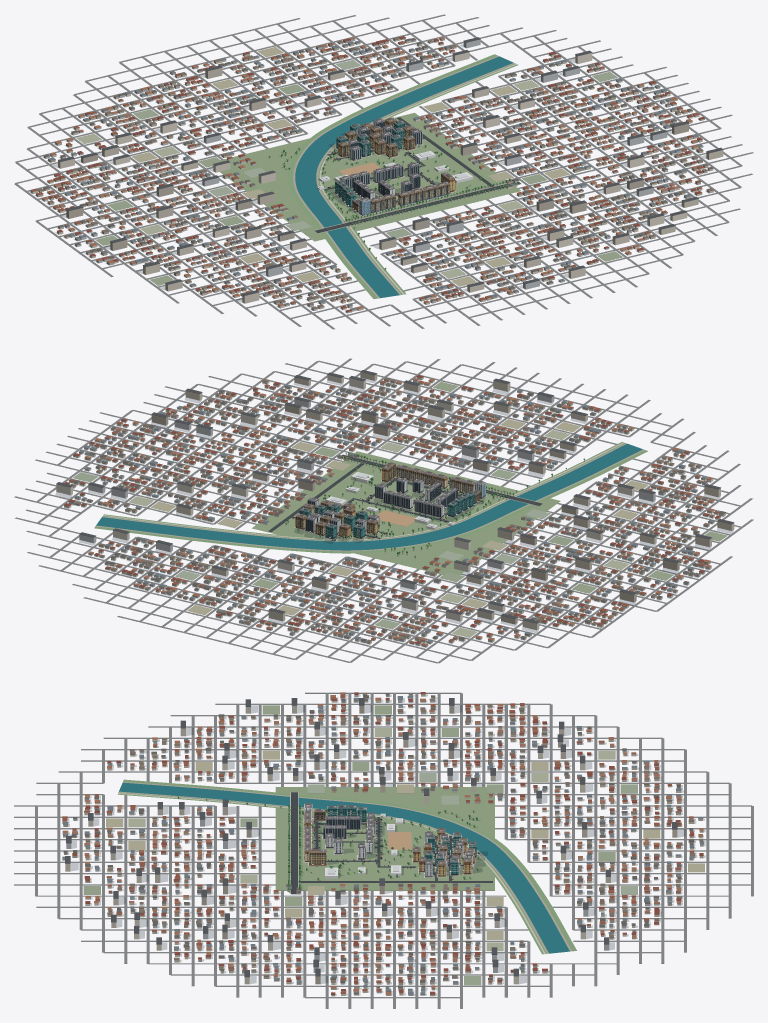
Rendered from placeholder.glb.
The picture shows the model from 3 angles, top to bottom: view 1: azimuth 30°, elevation 25°; view 2: azimuth 150°, elevation 25°; view 3: azimuth 270°, elevation 25°; orthographic projection. The views are drawn at different scales.
Visible parts, largest first — view 1: atrof_uylar, atrof_kochalar, yer, kanal, soyalar, yollar, daraxt_barg, blok_7_detal, blok_8_detal, jamoat_binolari; view 2: atrof_uylar, atrof_kochalar, kanal, yer, soyalar, yollar, blok_7_detal, blok_8_detal, daraxt_barg, jamoat_binolari, blok_1_detal; view 3: atrof_uylar, atrof_kochalar, yer, soyalar, kanal, yollar, blok_8_detal, daraxt_barg, jamoat_binolari.
Boxes of the visible parts, left/top/right/bottom form: atrof_uylar: left=30, top=36, right=723, bottom=313; atrof_kochalar: left=14, top=14, right=753, bottom=329; yer: left=212, top=112, right=521, bottom=241; kanal: left=288, top=54, right=517, bottom=299; soyalar: left=30, top=39, right=707, bottom=309; yollar: left=315, top=117, right=520, bottom=233; daraxt_barg: left=269, top=125, right=519, bottom=269; blok_7_detal: left=339, top=162, right=419, bottom=188; blok_8_detal: left=353, top=173, right=420, bottom=199; jamoat_binolari: left=317, top=151, right=473, bottom=189; atrof_uylar: left=56, top=370, right=734, bottom=647; atrof_kochalar: left=14, top=358, right=753, bottom=663; kanal: left=94, top=442, right=647, bottom=553; yer: left=252, top=451, right=560, bottom=574; soyalar: left=56, top=379, right=733, bottom=647; yollar: left=268, top=455, right=542, bottom=540; blok_7_detal: left=375, top=483, right=444, bottom=517; blok_8_detal: left=396, top=477, right=457, bottom=508; daraxt_barg: left=285, top=452, right=585, bottom=557; jamoat_binolari: left=326, top=472, right=454, bottom=529; blok_1_detal: left=382, top=462, right=423, bottom=482; atrof_uylar: left=62, top=692, right=704, bottom=996; atrof_kochalar: left=14, top=692, right=753, bottom=1008; yer: left=275, top=787, right=494, bottom=894; soyalar: left=67, top=694, right=705, bottom=995; kanal: left=117, top=779, right=576, bottom=954; yollar: left=291, top=792, right=492, bottom=894; blok_8_detal: left=323, top=815, right=360, bottom=854; daraxt_barg: left=177, top=796, right=478, bottom=892; jamoat_binolari: left=325, top=813, right=402, bottom=878.
Size of what is drawn, in the model's own units: 1740 by 40.6 by 1720.
